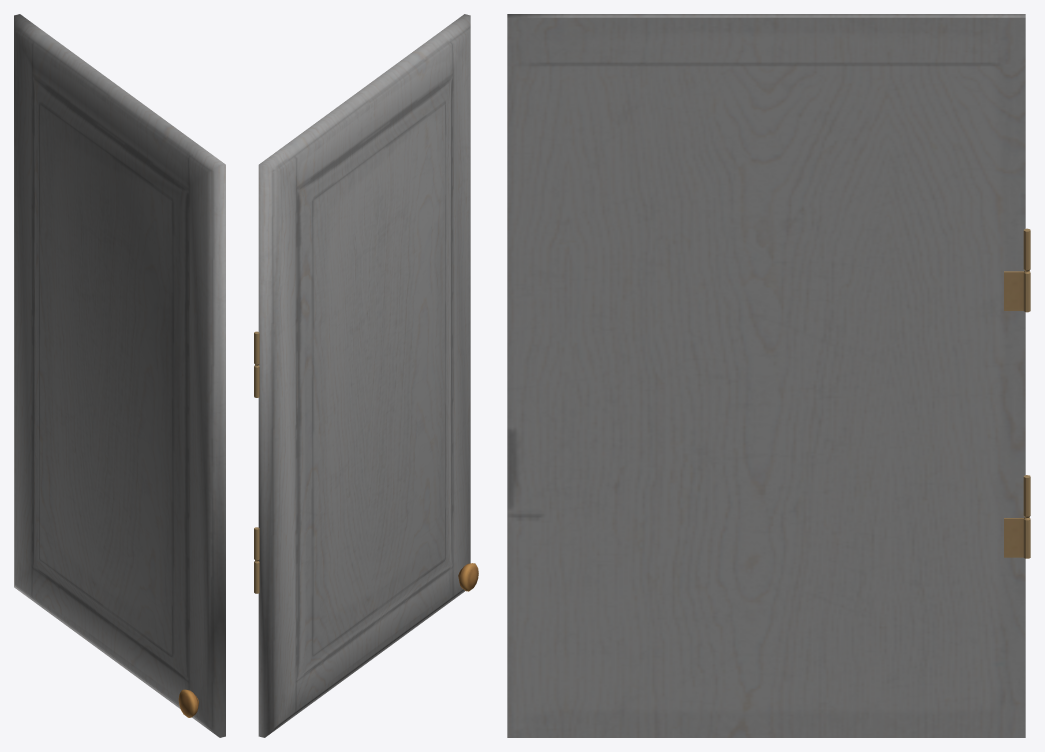
Rendered from SM_KitchenSet_B1_DoorA3.fbx.
3 views of the same model, side by side, from view 1: azimuth 30°, elevation 25°; view 2: azimuth 150°, elevation 25°; view 3: azimuth 270°, elevation 25° (orthographic). The views are drawn at different scales.
Visible parts, largest first — view 1: SM_KitchenSet_B1_DoorA3; view 2: SM_KitchenSet_B1_DoorA3; view 3: SM_KitchenSet_B1_DoorA3.
Part boxes in pixels (bbox=[...]): SM_KitchenSet_B1_DoorA3: bbox=[14, 14, 225, 737]; SM_KitchenSet_B1_DoorA3: bbox=[254, 14, 478, 737]; SM_KitchenSet_B1_DoorA3: bbox=[507, 14, 1030, 737].
Bounding box in the file's own units: 4.8 × 55.7 × 84.63.
Materials: 2 (2 with a texture image).
